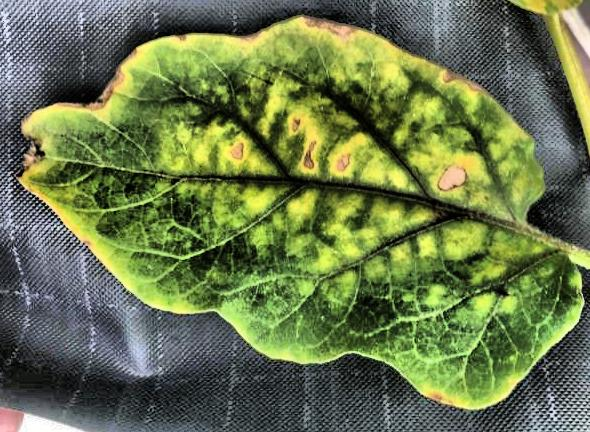Critical Stress: (1, 0, 590, 432)
